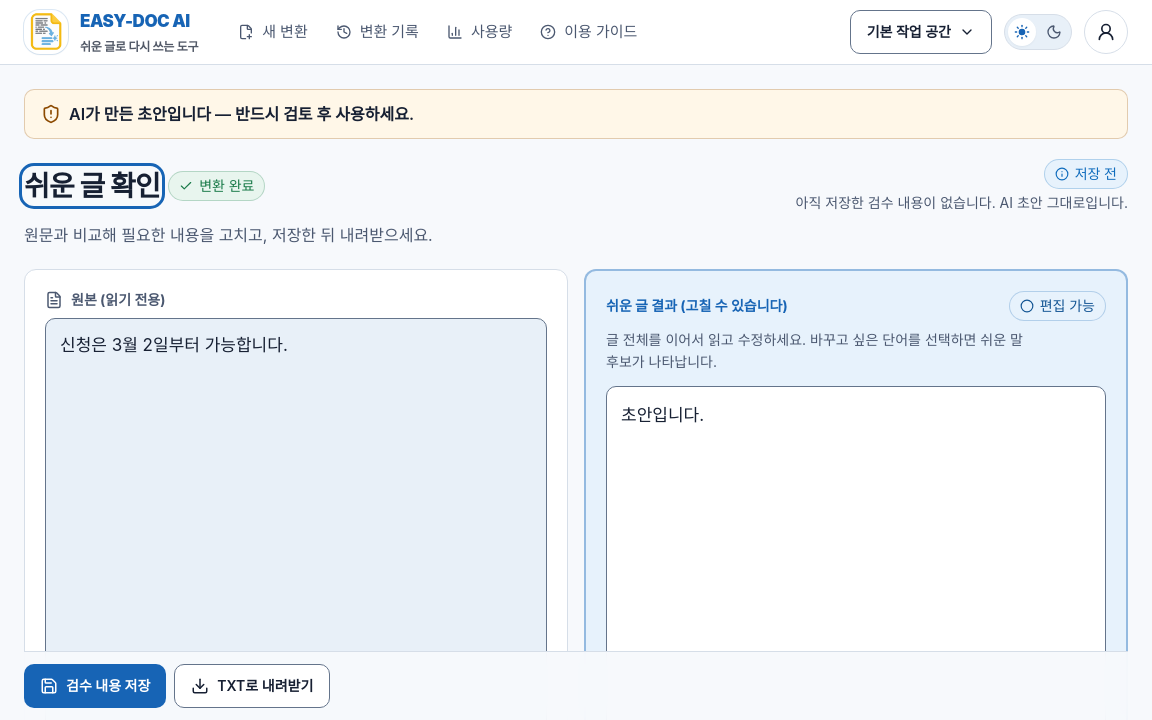
Test case: 저장하지 않은 검수 수정 › 수정하지 않았으면 묻지 않는다
Expected: the heading "쉬운 글 확인" is shown, x1=24 y1=168 x2=160 y2=204
Click the link "변환 기록" at (377, 32), box x1=336 y1=22 x2=419 y2=41
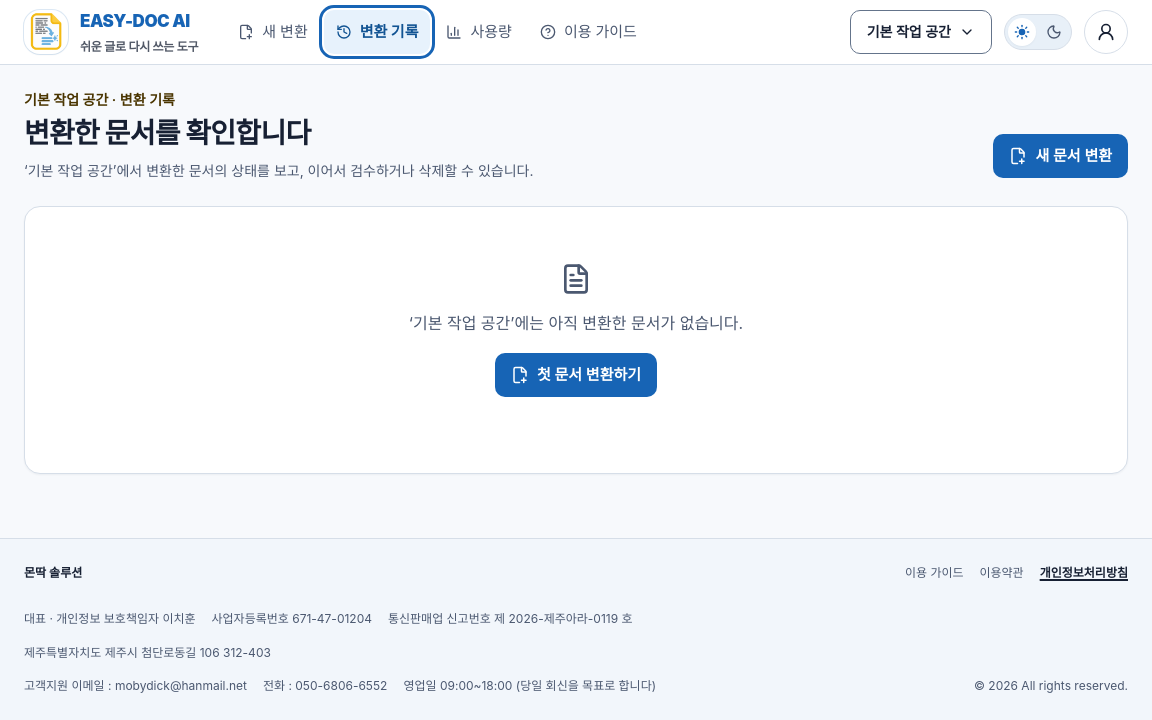
Expected: the heading "변환한 문서를 확인합니다" is shown, x1=24 y1=116 x2=310 y2=150
